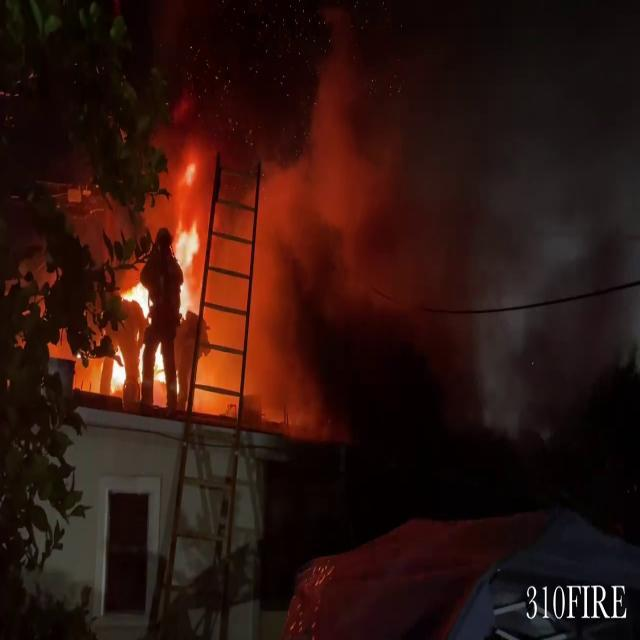Fire: (170, 208, 210, 318), (122, 274, 154, 322)
Smoke: (196, 9, 640, 441)
